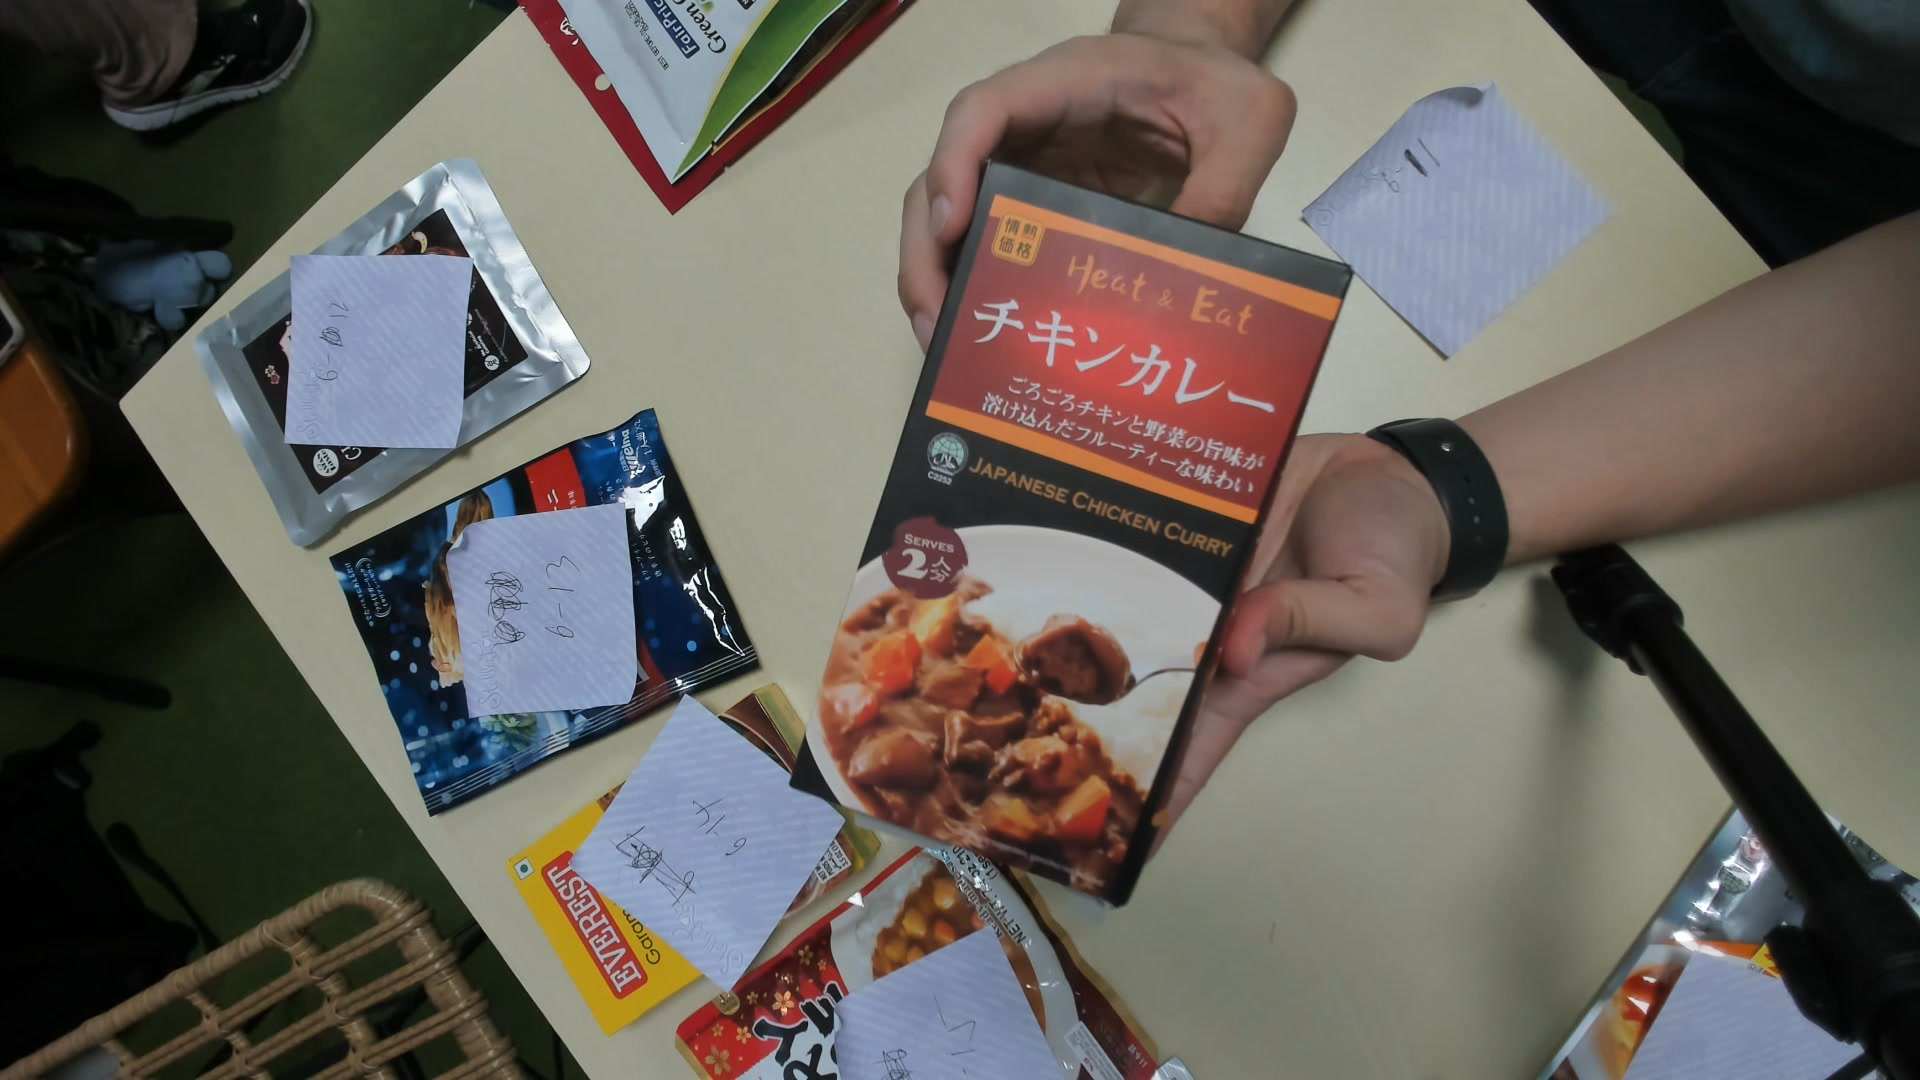CurryPastePowderSauce_200-299g_Halal_NonHealthy: (789, 165, 1356, 909)
